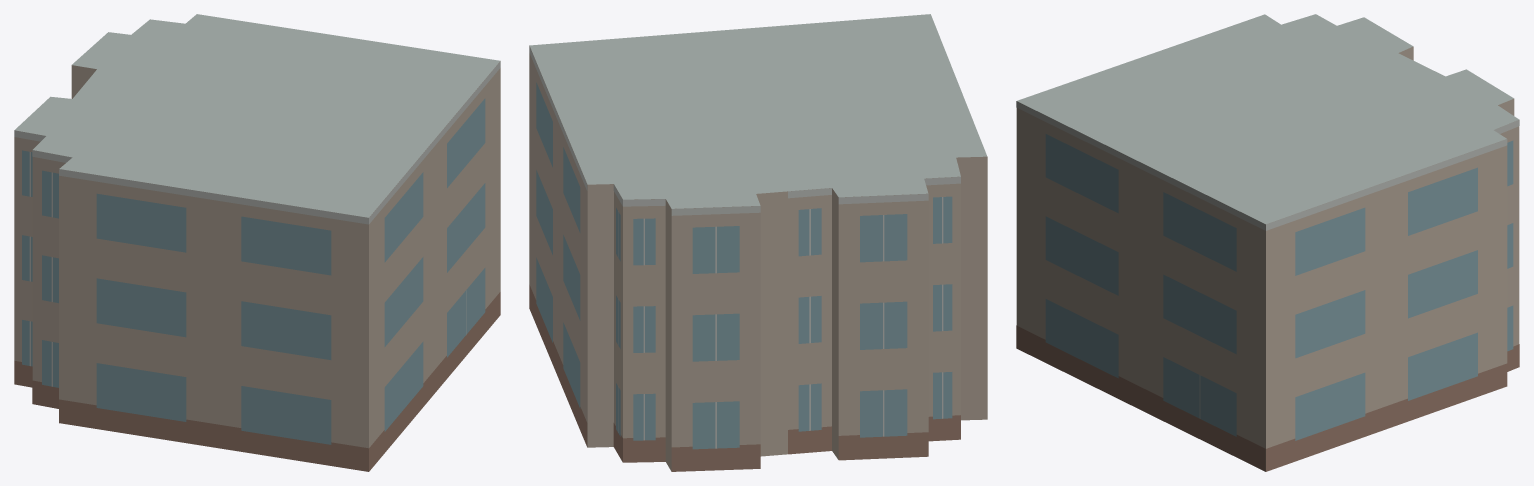
The model's file is survey-upis-33036543.glb.
3 renders of one model, left to right at view 1: azimuth 30°, elevation 25°; view 2: azimuth 150°, elevation 25°; view 3: azimuth 270°, elevation 25°, orthographic. The views are drawn at different scales.
Visible parts, largest first — view 1: survey-upis-33036543.tmp; view 2: survey-upis-33036543.tmp; view 3: survey-upis-33036543.tmp.
Boxes of the visible parts, bbox=[...] form: survey-upis-33036543.tmp: bbox=[14, 14, 500, 471]; survey-upis-33036543.tmp: bbox=[529, 14, 987, 471]; survey-upis-33036543.tmp: bbox=[1016, 14, 1519, 471].
Size of the model in its own units: 16.78 by 9.2 by 16.95.
